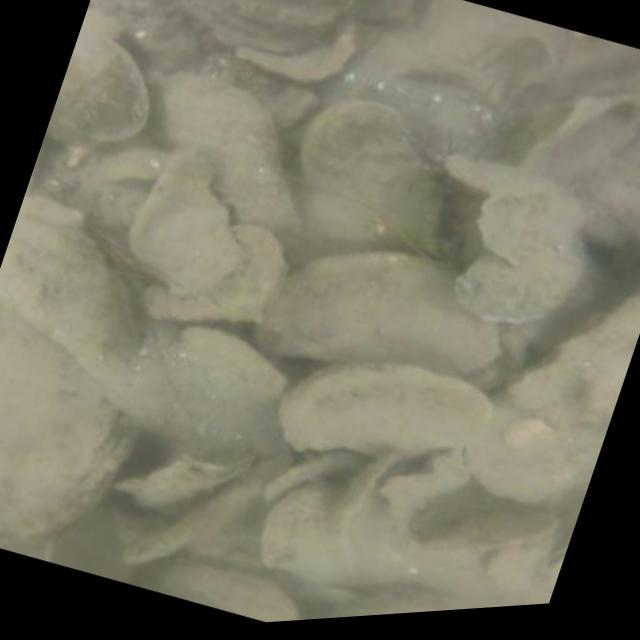Oyster-Indeterminate: (256, 252, 495, 377), (262, 487, 495, 593), (298, 96, 447, 259), (156, 72, 304, 232), (0, 195, 130, 361), (276, 364, 495, 461), (505, 297, 640, 421), (133, 555, 303, 622), (449, 242, 583, 324), (45, 30, 137, 139), (168, 0, 352, 53), (422, 510, 561, 551)
